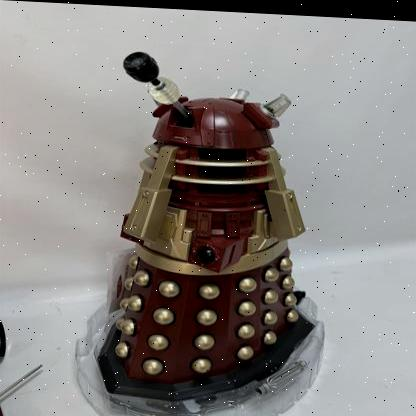dalek: (71, 34, 337, 416)
